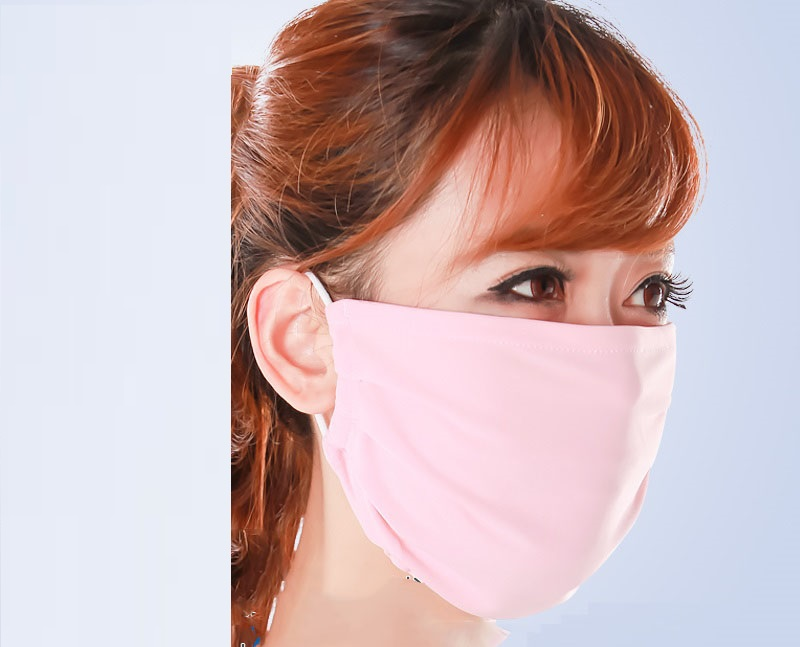face_mask: (375, 115, 682, 563)
